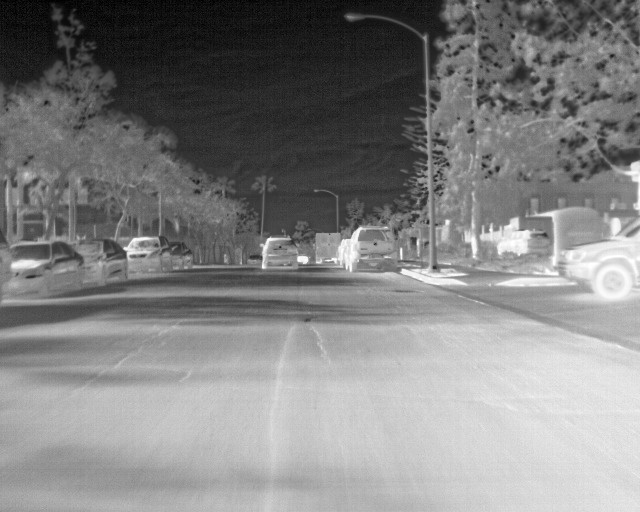vehicle: (560, 215, 640, 299), (6, 241, 80, 298), (347, 224, 404, 275), (70, 238, 130, 283), (128, 233, 169, 278), (263, 236, 300, 268)
